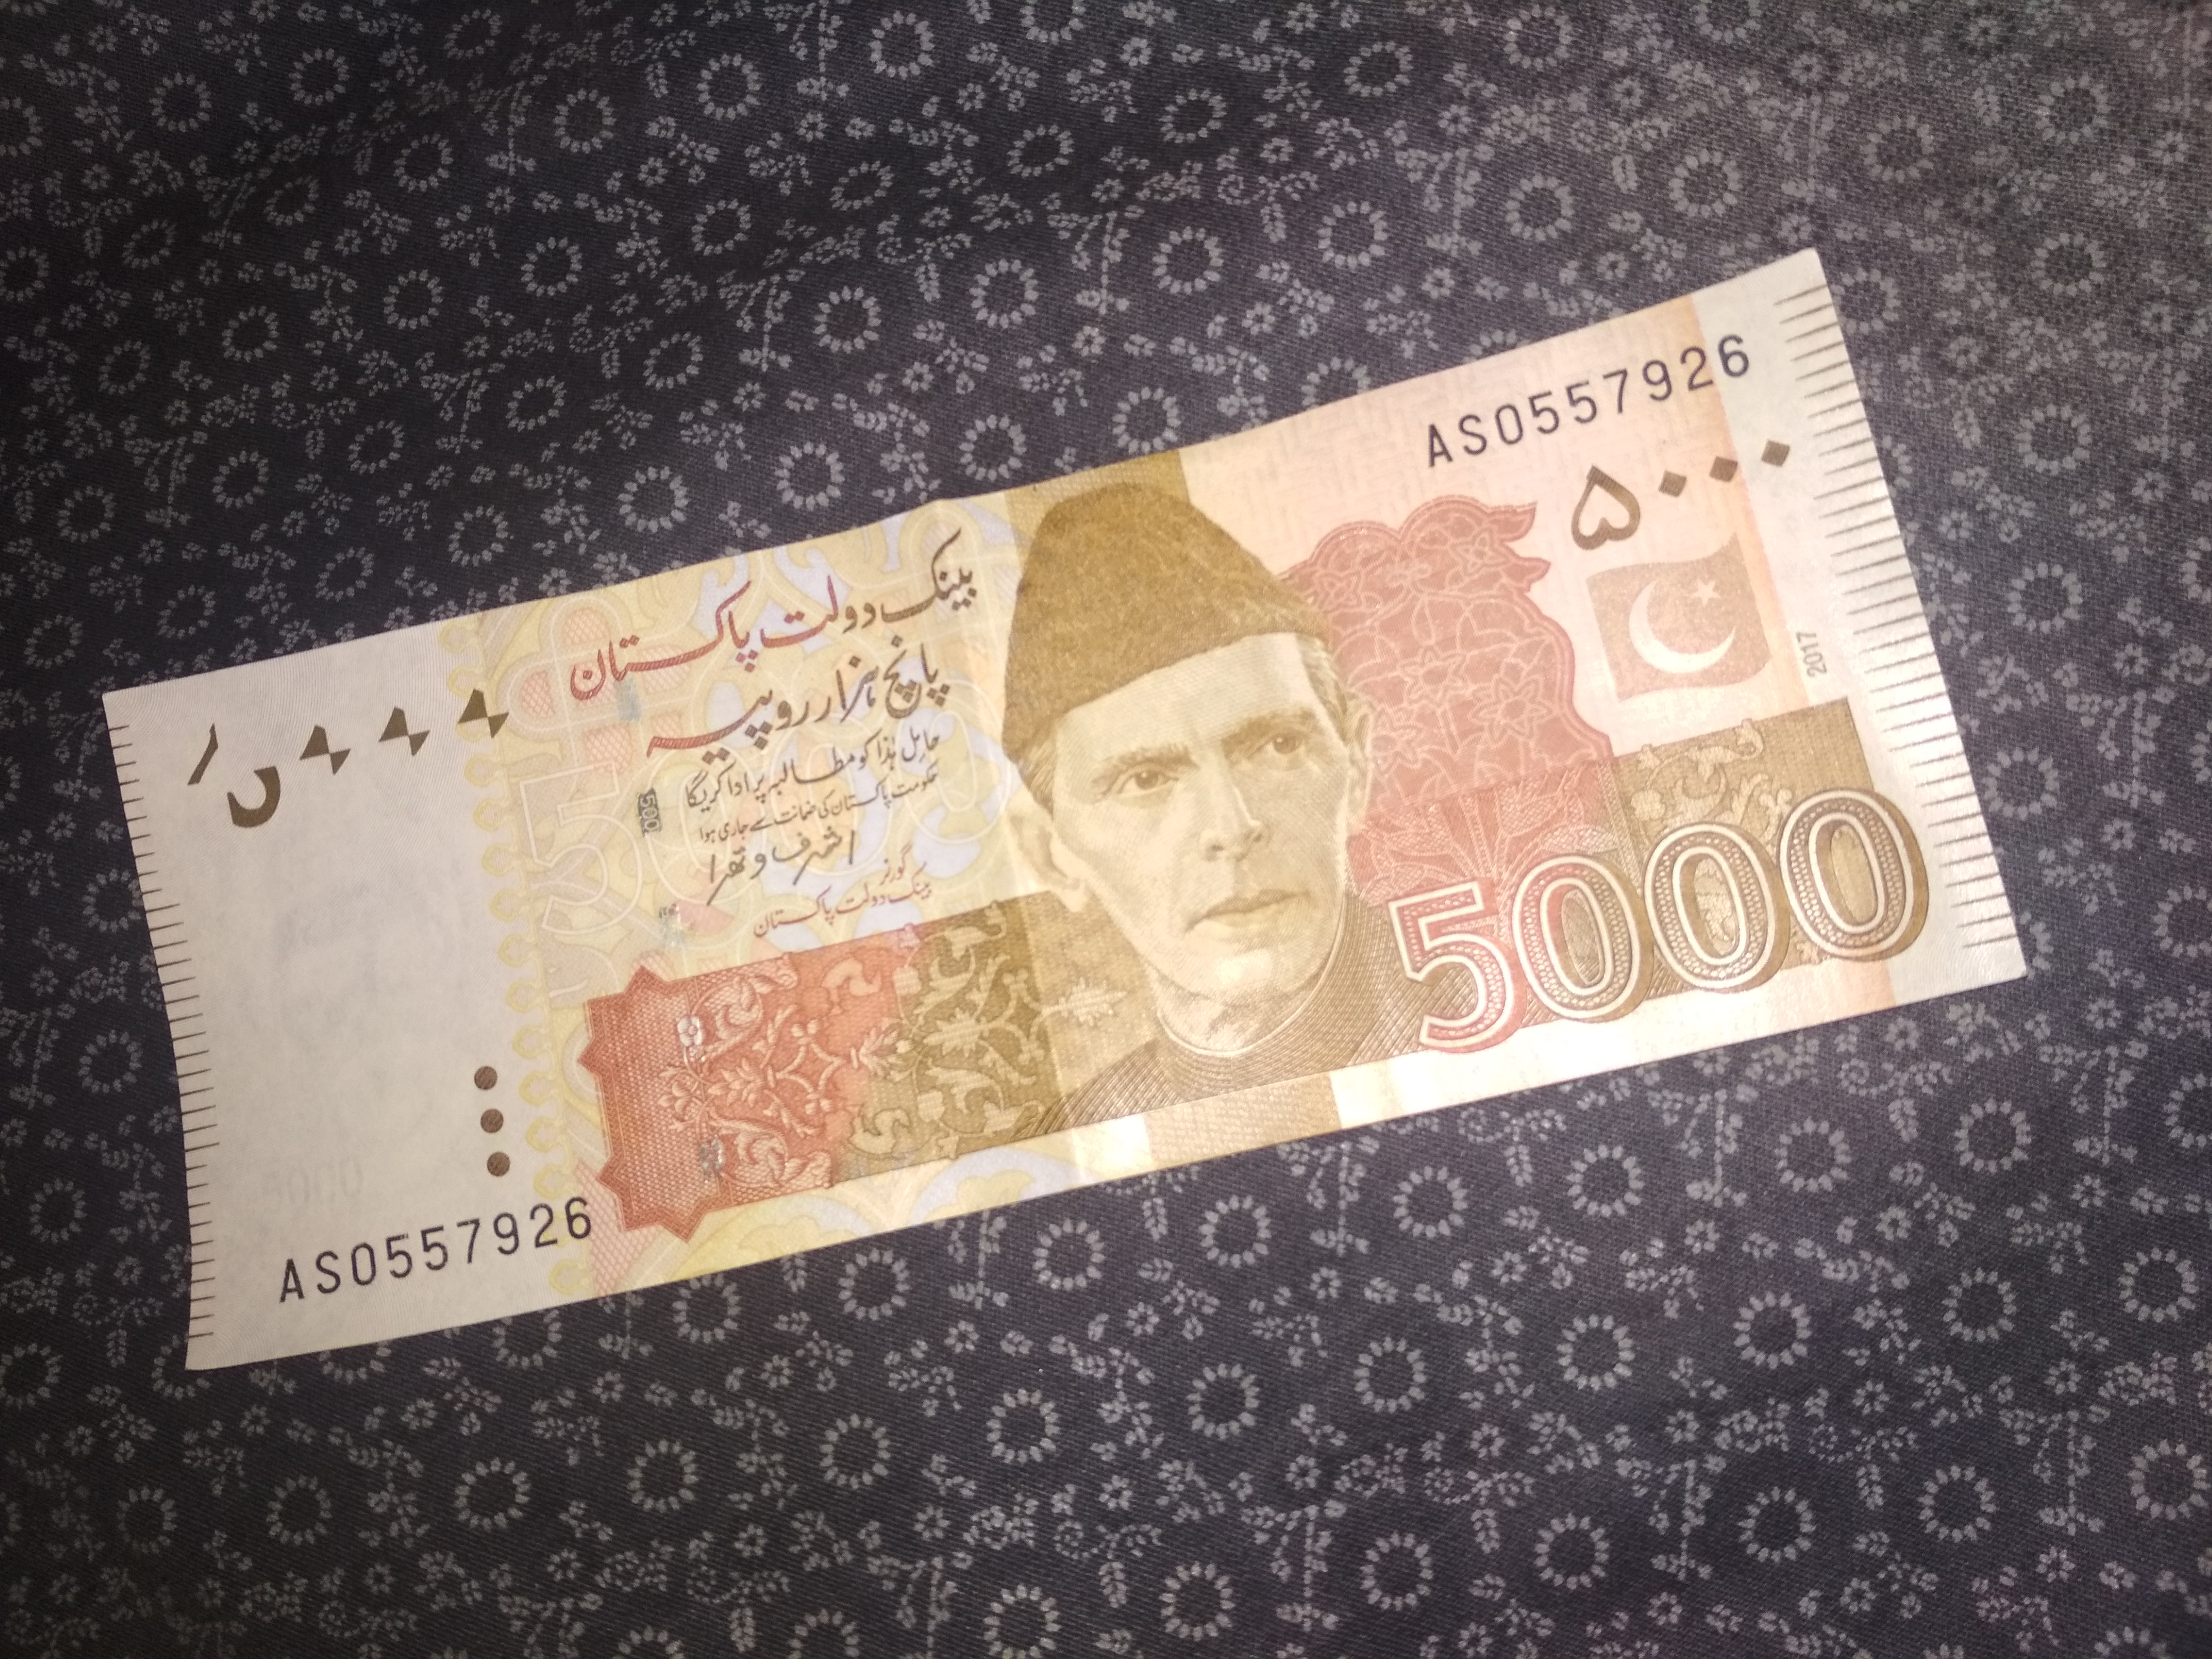5000 rupee: (129, 247, 2031, 1415)
